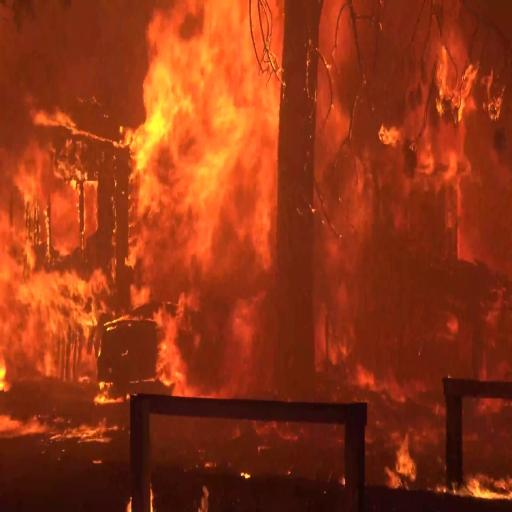fire: (146, 44, 263, 226), (0, 248, 119, 386), (380, 428, 512, 495), (428, 37, 482, 109)
